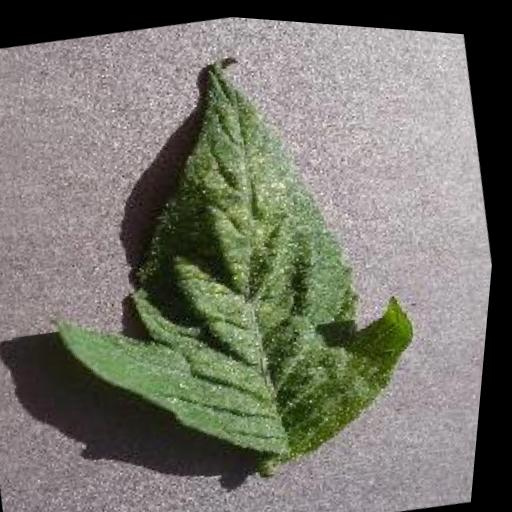Spider Mites: (5, 8, 460, 503)
